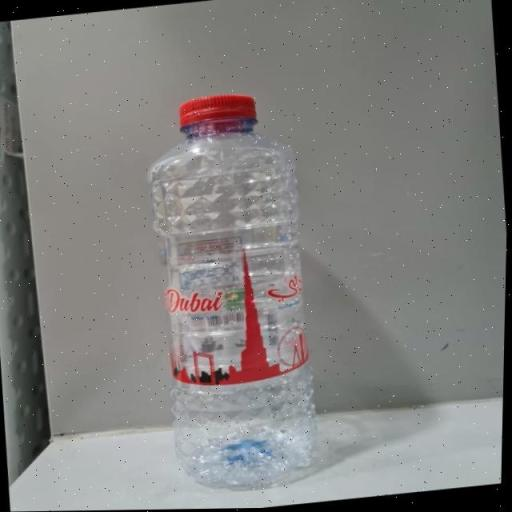plastic: (136, 88, 336, 499)
